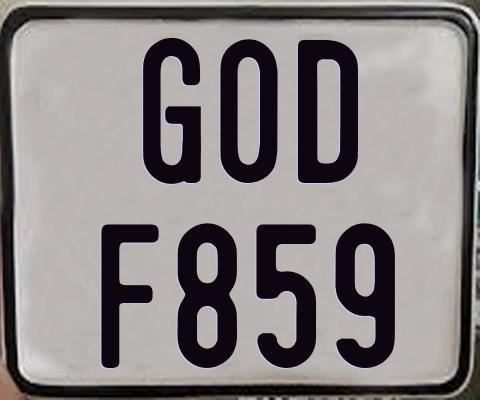0: (217, 37, 279, 184)
5: (253, 223, 313, 372)
8: (176, 220, 236, 371)
9: (334, 223, 397, 372)
D: (296, 39, 359, 185)
F: (100, 223, 163, 368)
G: (143, 35, 206, 185)
